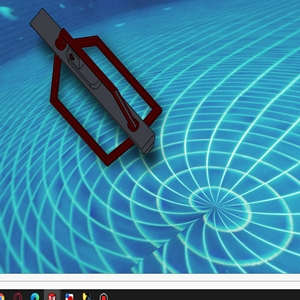submarine: (25, 7, 160, 164), (53, 25, 156, 160), (32, 9, 57, 36)
